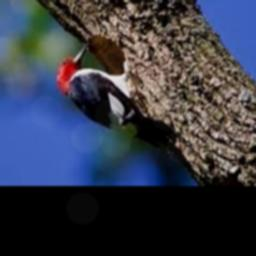Woodpecker: (57, 43, 176, 155)
